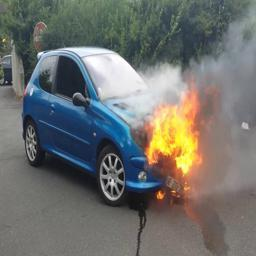fire: (145, 73, 204, 174)
